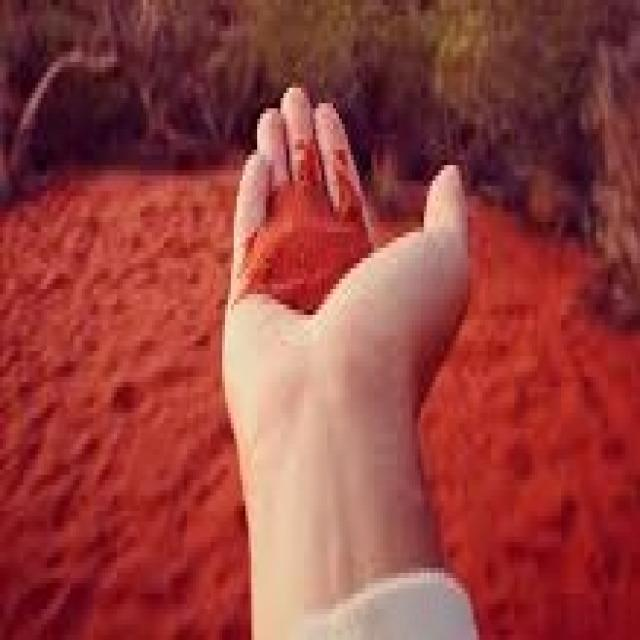Red Soil: (26, 210, 203, 618), (504, 264, 630, 626)
